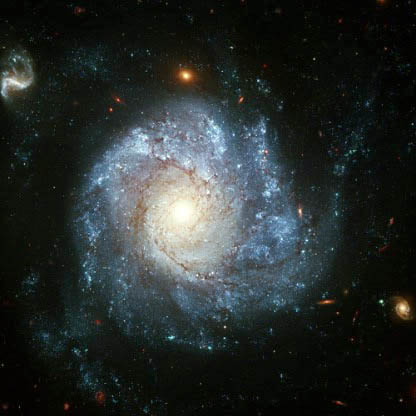NGC 1309: (3, 43, 416, 362)
